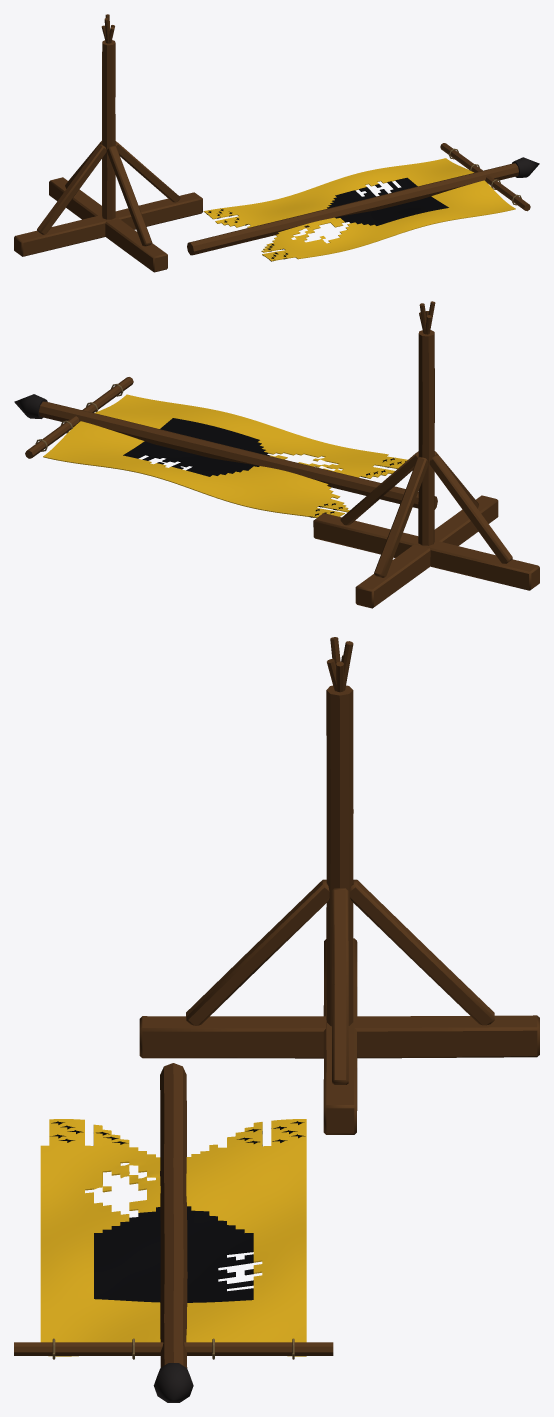
The model's file is banner_gelb_kaputt.glb.
3 views of the same model, one above another, from view 1: azimuth 30°, elevation 25°; view 2: azimuth 150°, elevation 25°; view 3: azimuth 270°, elevation 25° (orthographic). The views are drawn at different scales.
Parts seen in each view (by area): view 1: banner_gelb_kaputt; view 2: banner_gelb_kaputt; view 3: banner_gelb_kaputt.
Boxes of the visible parts, x1,y1,x2,y2 form: banner_gelb_kaputt: (14, 14, 539, 272); banner_gelb_kaputt: (14, 301, 539, 608); banner_gelb_kaputt: (14, 637, 539, 1402).
Size of the model in its own units: 3.16 by 1.38 by 1.58.
